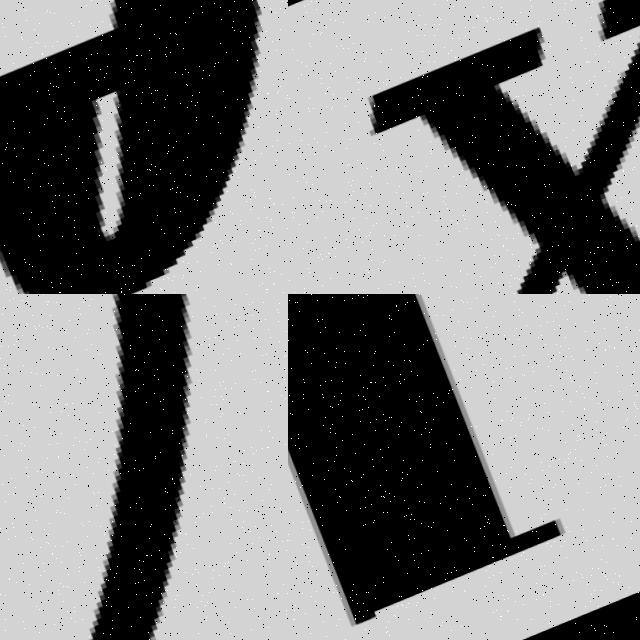7: (0, 294, 288, 640)
E: (0, 0, 255, 294)
L: (288, 294, 592, 640)
X: (288, 0, 640, 294)
